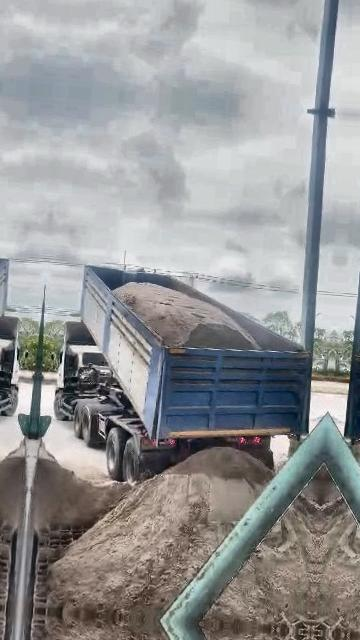sand: (49, 448, 270, 620), (203, 497, 320, 630), (114, 283, 260, 349), (33, 448, 130, 531), (304, 465, 324, 506)
